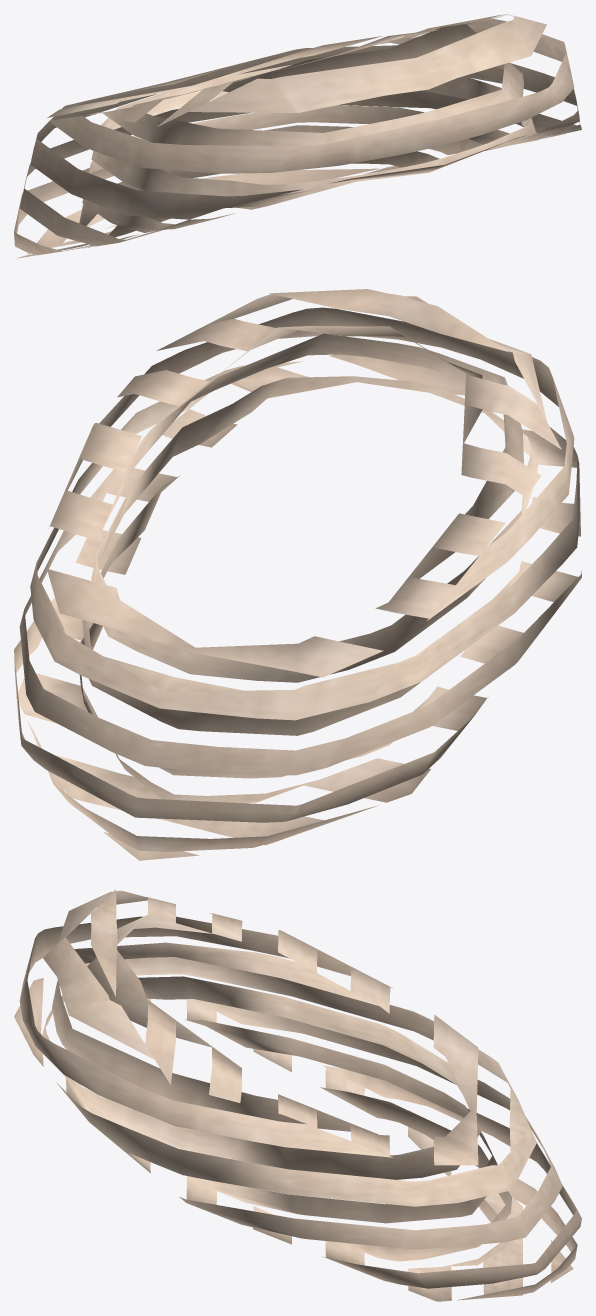
Rendered from maya_fem_1.dae.
3 renders of one model, top to bottom at view 1: azimuth 30°, elevation 25°; view 2: azimuth 150°, elevation 25°; view 3: azimuth 270°, elevation 25°, orthographic. The views are drawn at different scales.
Visible parts, largest first — view 1: faixa_grande_fem_1; view 2: faixa_grande_fem_1; view 3: faixa_grande_fem_1.
Boxes of the visible parts, box(x1,y1,x2,y2) form: faixa_grande_fem_1: box(14, 14, 581, 258); faixa_grande_fem_1: box(14, 289, 581, 860); faixa_grande_fem_1: box(14, 889, 581, 1301).
Bounding box in the file's own units: 0.4975 × 0.5768 × 0.3869.
